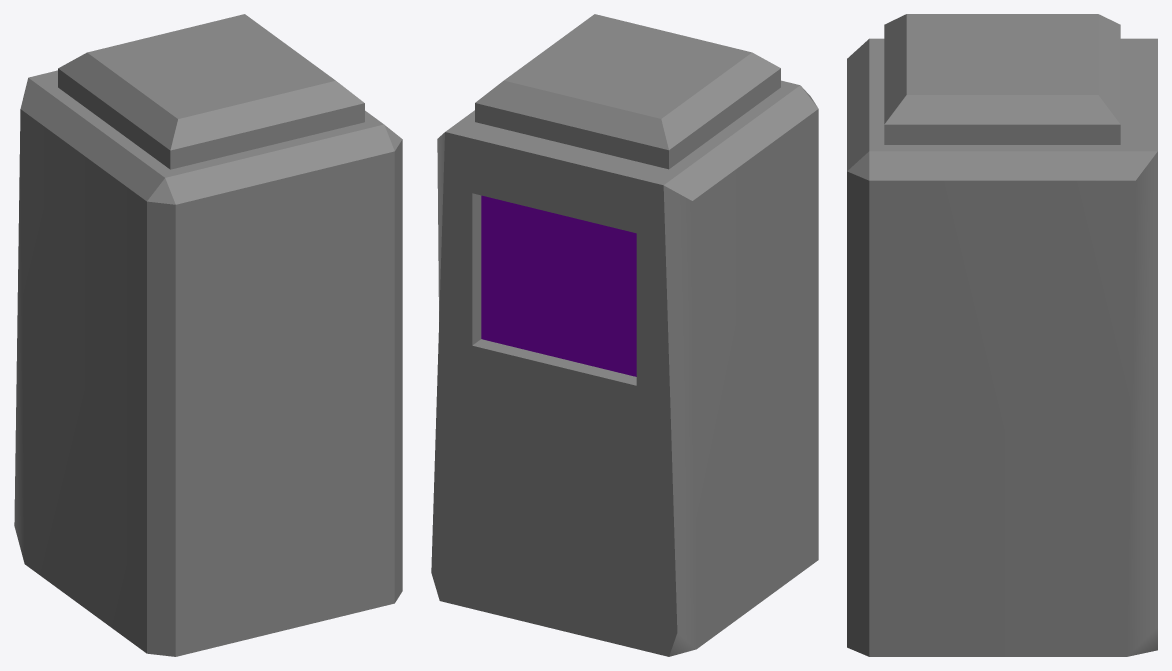
3 views of the same model, side by side, from view 1: azimuth 30°, elevation 25°; view 2: azimuth 150°, elevation 25°; view 3: azimuth 270°, elevation 25° (orthographic). The views are drawn at different scales.
Parts seen in each view (by area): view 1: pCube4; view 2: pCube4; view 3: pCube4.
Boxes of the visible parts, x1,y1,x2,y2 form: pCube4: (14,14,402,656); pCube4: (431,14,818,656); pCube4: (847,14,1157,656).
Size of the model in its own units: 2.21 by 4.2 by 2.21.
